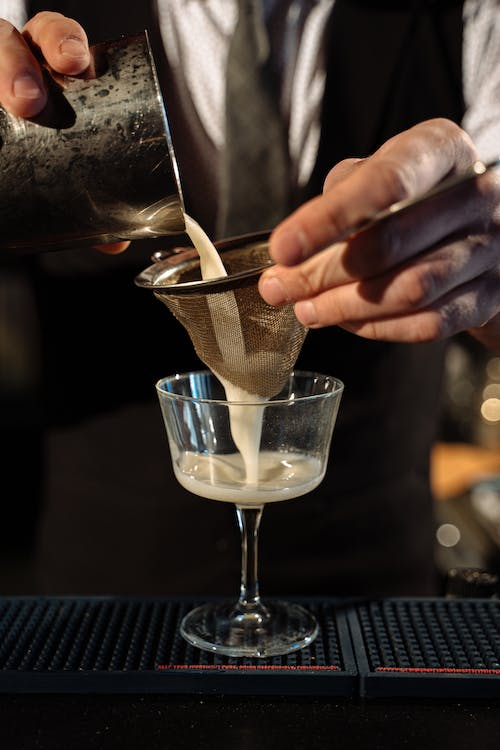alcohol: (154, 368, 346, 659)
